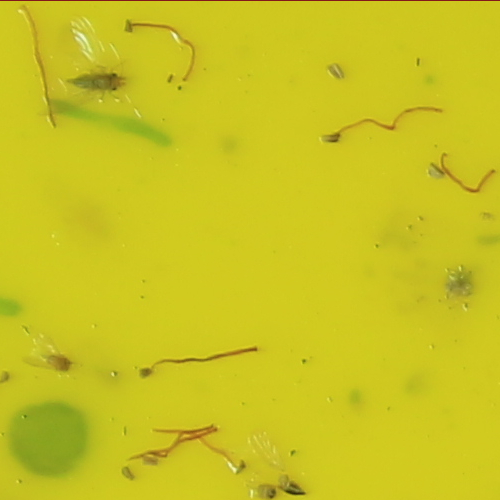Glycaspis: (67, 70, 129, 94)
psylla: (46, 355, 73, 375)
